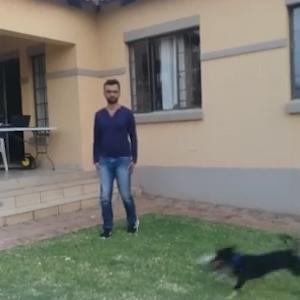follow: (89, 78, 141, 240)
